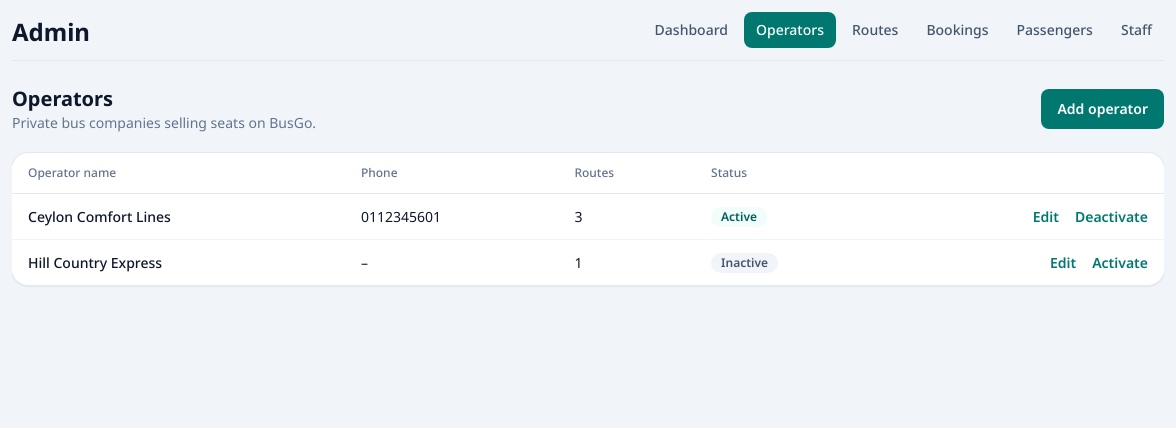
Test: Admin operators › edits an operator name
Click the button with aria-label "Edit Ceylon Comfort Lines": (1046, 216) [1033,206,1059,226]
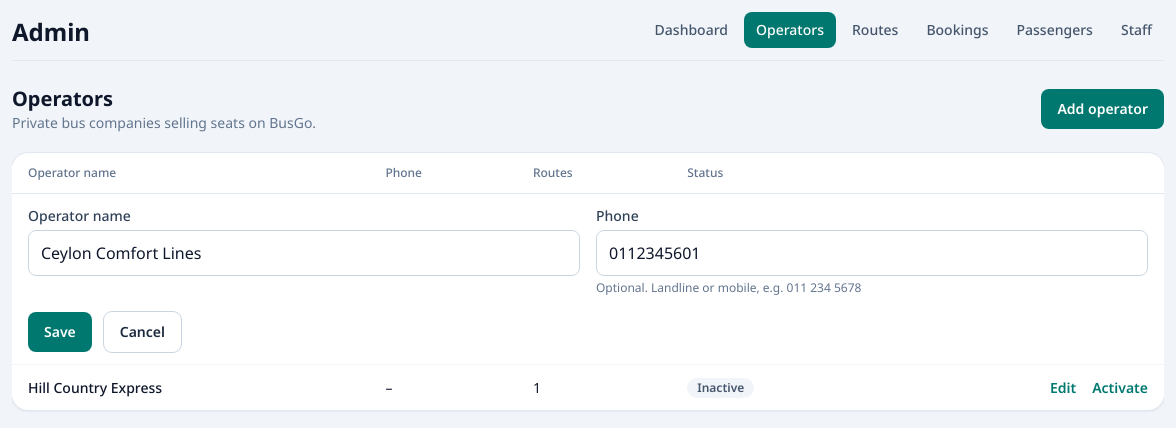
Replace the text in the field labelled "Operator name" with "Ceylon Comfort Coaches": (304, 253) [28,230,580,276]
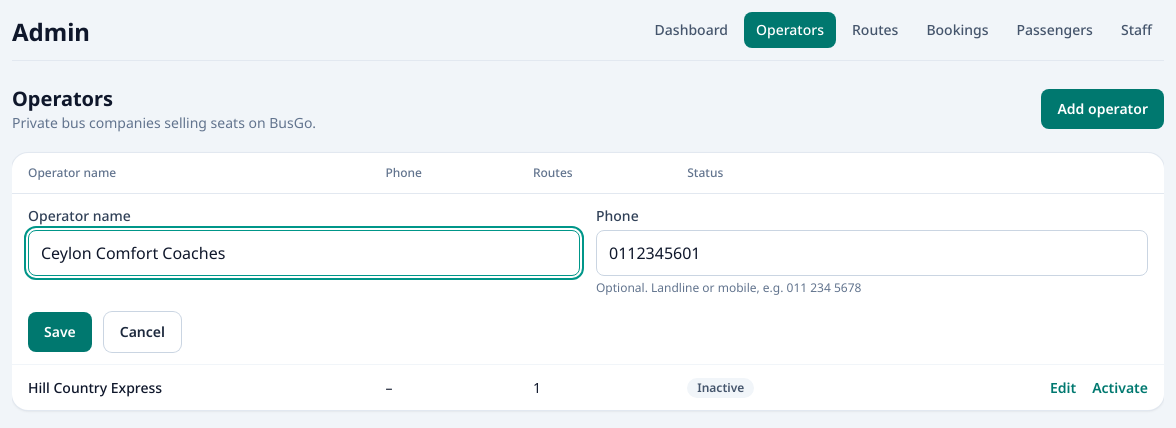
Click the button "Save": (60, 332) [28,312,92,352]
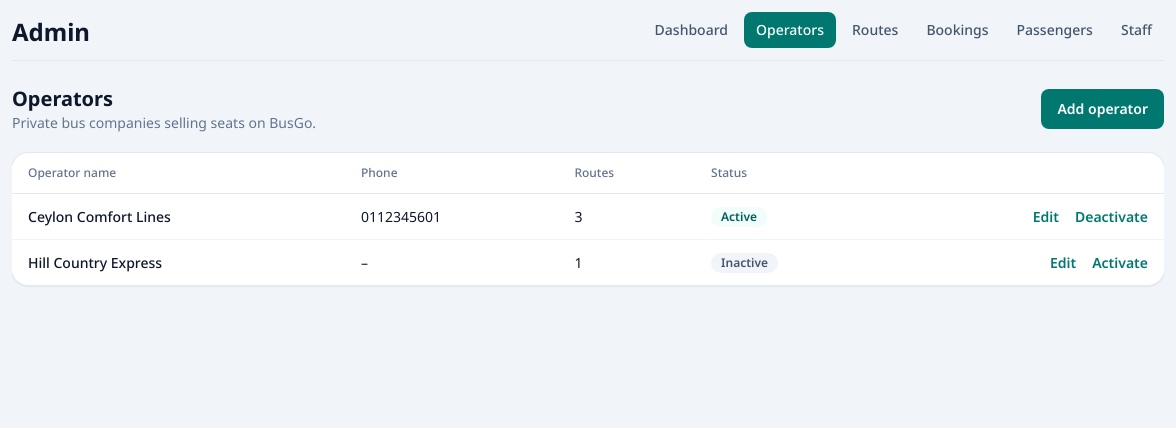
Result: the button with aria-label "Edit Ceylon Comfort Lines" is shown at [1033,206,1059,226]
